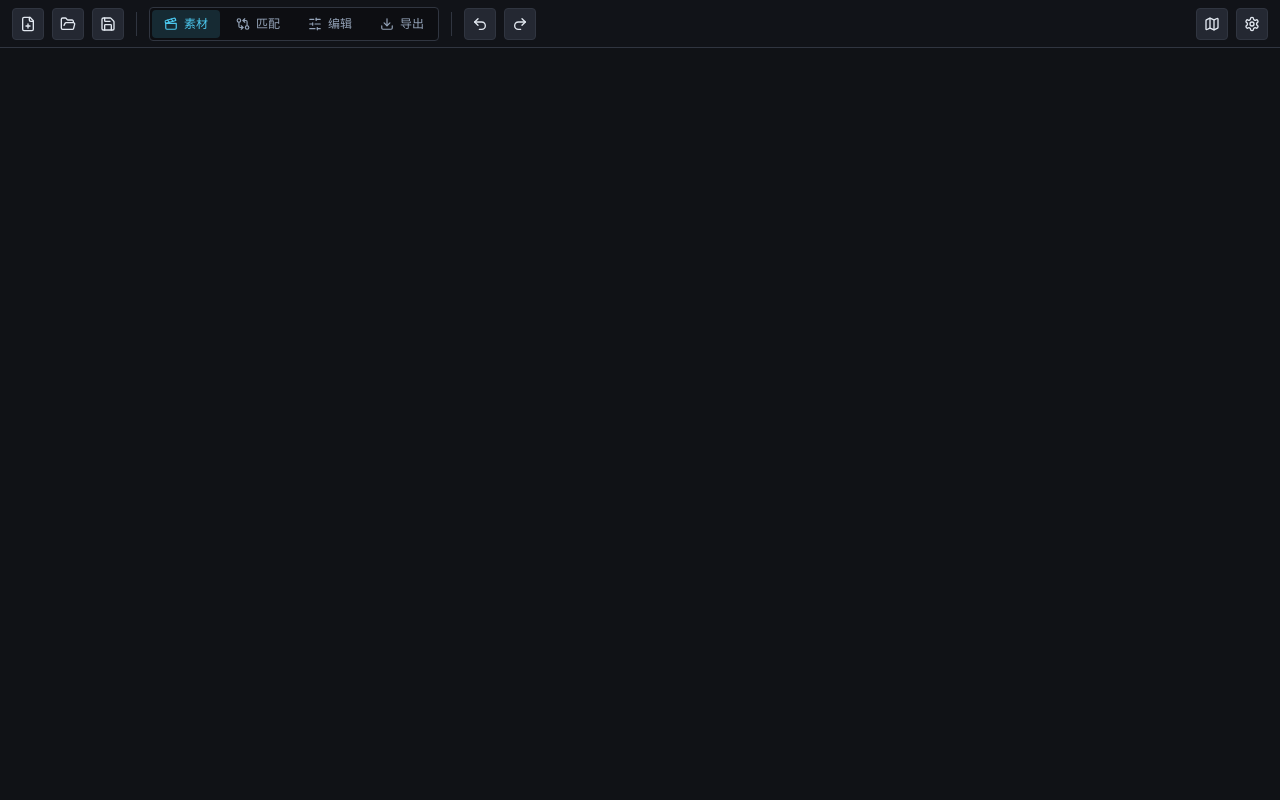
编辑器工具栏 › 新手引导主动作进入匹配页复核候选，不应用全局对齐提案
Click the button named "新手引导": (1212, 24) x1=1196 y1=8 x2=1228 y2=40
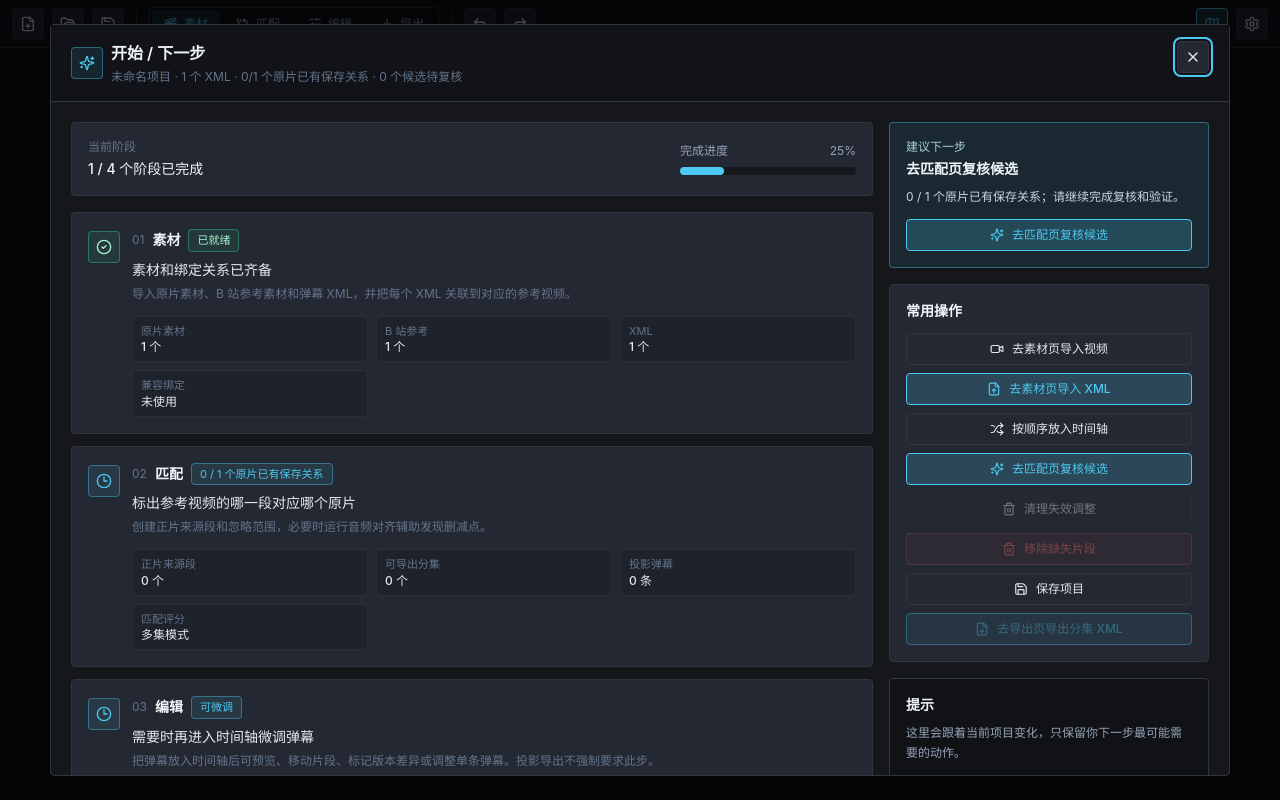
Check: the button "去匹配页复核候选" below "0 / 1 个原片已有保存关系；请继续完成复核和验证。" is shown
Click the button "去匹配页复核候选" below "0 / 1 个原片已有保存关系；请继续完成复核和验证。": (1049, 235) x1=906 y1=219 x2=1192 y2=251
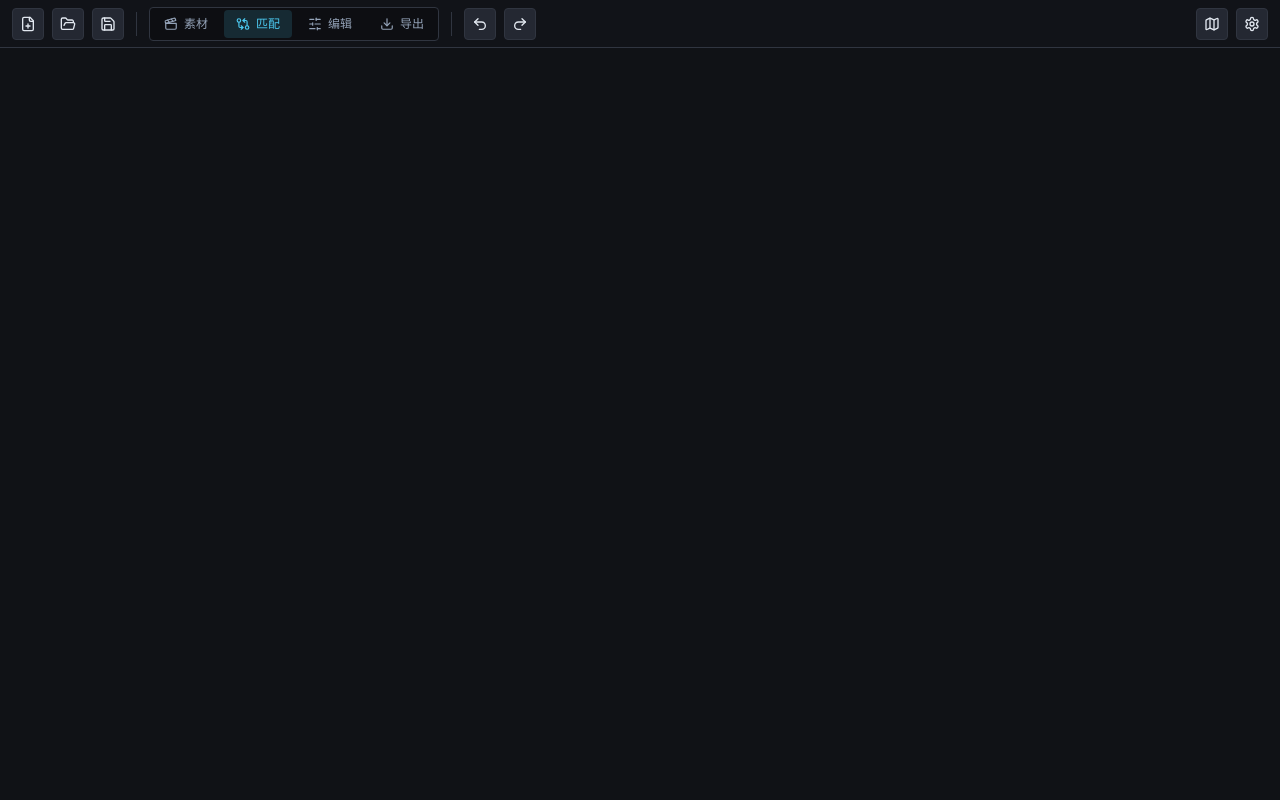
Check: the element with test id "workflow-overview-dialog" is gone
